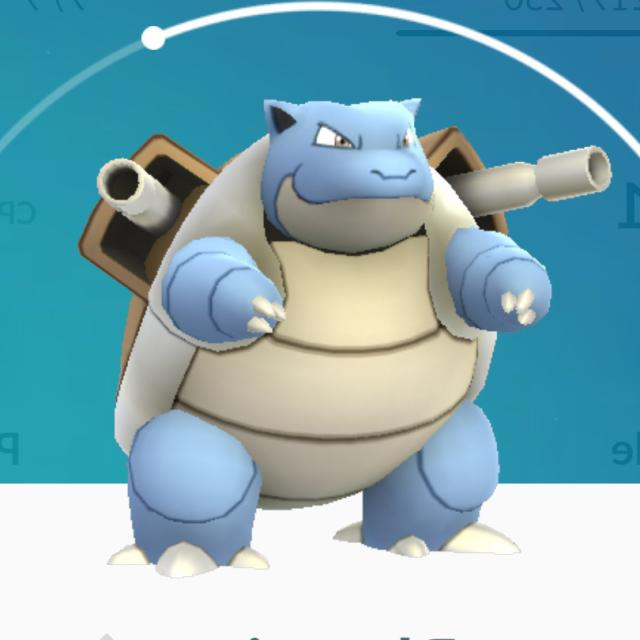Blastoise: (80, 98, 580, 578)
